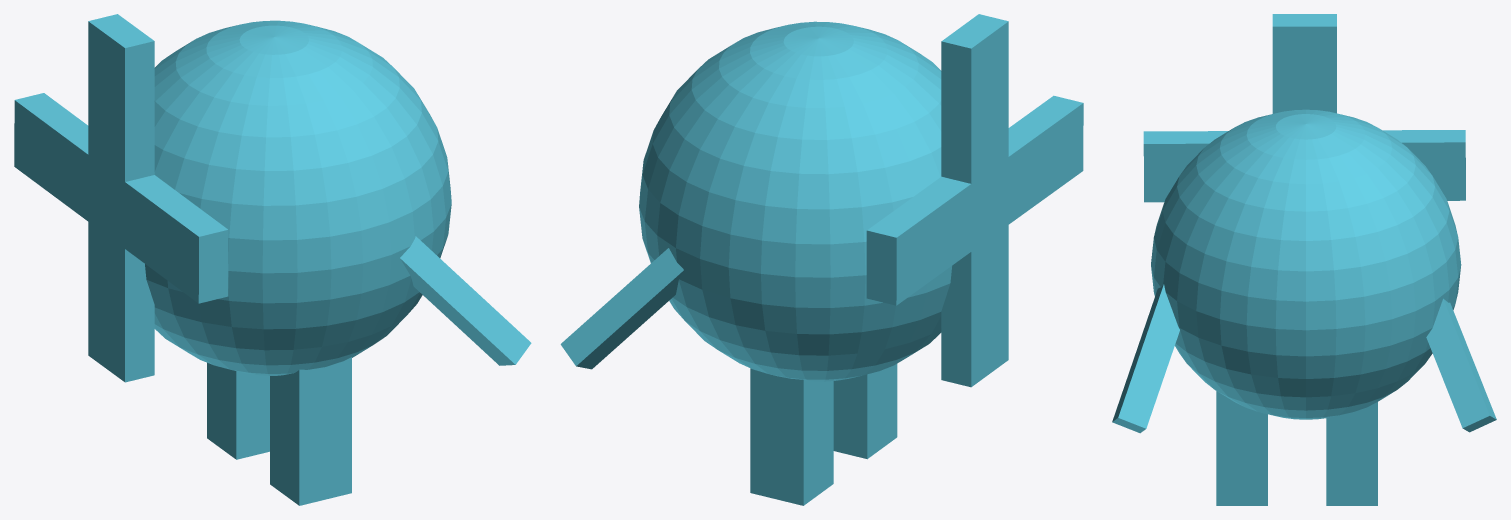
The model's file is zako.obj.
3 renders of one model, left to right at view 1: azimuth 30°, elevation 25°; view 2: azimuth 150°, elevation 25°; view 3: azimuth 270°, elevation 25°, orthographic. The views are drawn at different scales.
Parts seen in each view (by area): view 1: 球; view 2: 球; view 3: 球.
Boxes of the visible parts, bbox=[...] form: 球: bbox=[14, 14, 531, 505]; 球: bbox=[560, 14, 1083, 505]; 球: bbox=[1112, 14, 1496, 505].
Size of the model in its own units: 1.17 by 1.63 by 1.39.
1 material, 1 textured.
